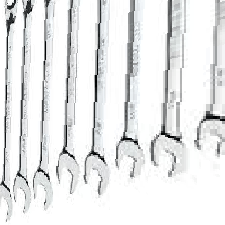Wrench: (148, 1, 187, 196), (83, 1, 119, 208), (58, 1, 88, 208), (116, 1, 150, 178), (3, 1, 31, 211), (190, 3, 222, 177), (35, 1, 60, 212)
